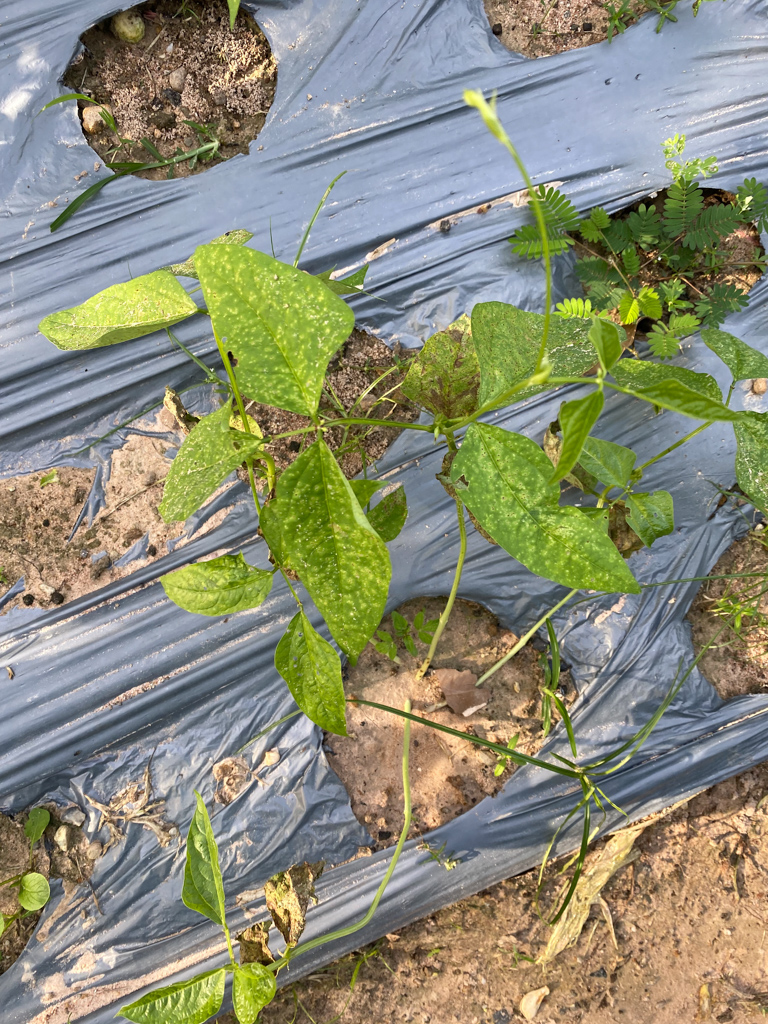Rust: (437, 431, 632, 598), (194, 252, 338, 407), (280, 469, 382, 633), (161, 408, 252, 531), (483, 302, 590, 400), (78, 277, 191, 347), (406, 310, 476, 419), (272, 637, 348, 727), (619, 354, 716, 416), (730, 406, 767, 519), (705, 320, 767, 384)
